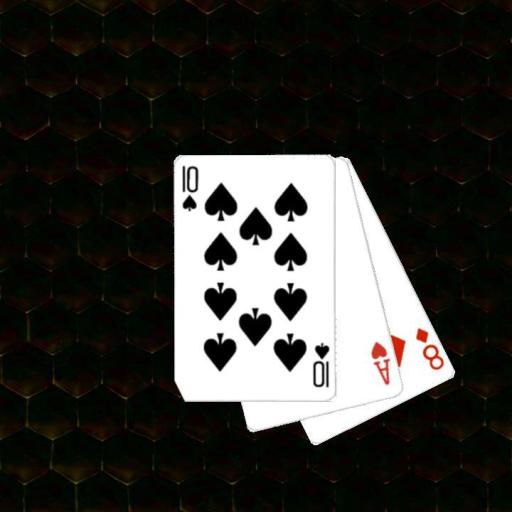10S: (179, 163, 201, 213), (310, 340, 331, 390)
8D: (412, 324, 446, 372)
AH: (368, 338, 393, 387)
